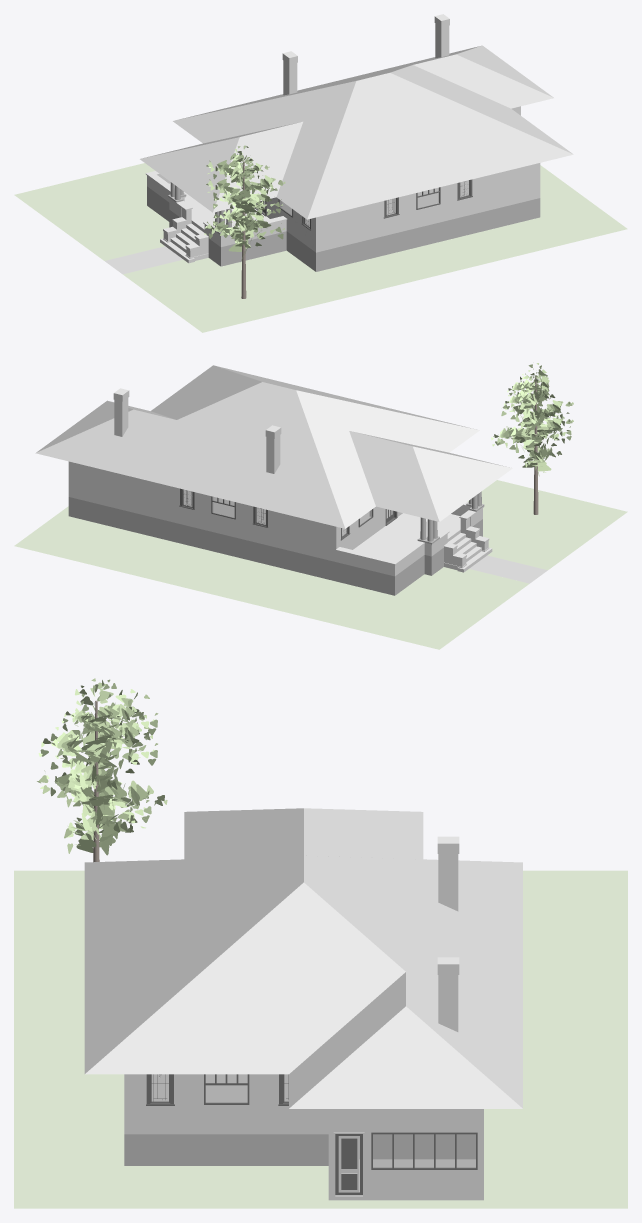
File: sp-prop-sf-1L-62ft.glb
3 views of the same model, one above another, from view 1: azimuth 30°, elevation 25°; view 2: azimuth 150°, elevation 25°; view 3: azimuth 270°, elevation 25° (orthographic). The views are drawn at different scales.
Parts seen in each view (by area): view 1: 3DGeom-55, 3DGeom-15, 3DGeom-16, 3DGeom-3, 3DGeom-8, 3DGeom-618, 3DGeom-1, 3DGeom-2; view 2: 3DGeom-55, 3DGeom-15, 3DGeom-3, 3DGeom-16, 3DGeom-8, 3DGeom-618, 3DGeom-1, 3DGeom-2; view 3: 3DGeom-55, 3DGeom-15, 3DGeom-16, 3DGeom-3, 3DGeom-618, 3DGeom-8, 3DGeom-2, 3DGeom-1.
Boxes of the visible parts, <box> form: 3DGeom-55: <box>14,163,627,332</box>; 3DGeom-15: <box>144,46,573,219</box>; 3DGeom-16: <box>105,45,572,274</box>; 3DGeom-3: <box>145,14,540,263</box>; 3DGeom-8: <box>147,182,540,271</box>; 3DGeom-618: <box>204,145,285,260</box>; 3DGeom-1: <box>254,179,472,230</box>; 3DGeom-2: <box>262,180,468,226</box>; 3DGeom-55: <box>14,480,627,649</box>; 3DGeom-15: <box>36,365,509,528</box>; 3DGeom-3: <box>68,388,492,576</box>; 3DGeom-16: <box>36,365,547,583</box>; 3DGeom-8: <box>68,491,484,595</box>; 3DGeom-618: <box>491,363,573,476</box>; 3DGeom-1: <box>179,488,397,540</box>; 3DGeom-2: <box>183,489,392,535</box>; 3DGeom-55: <box>14,870,627,1208</box>; 3DGeom-15: <box>84,808,522,1108</box>; 3DGeom-16: <box>85,855,522,1108</box>; 3DGeom-3: <box>124,836,483,1200</box>; 3DGeom-618: <box>37,678,167,855</box>; 3DGeom-8: <box>124,1134,328,1165</box>; 3DGeom-2: <box>151,1074,475,1167</box>; 3DGeom-1: <box>146,1074,477,1195</box>.
Bounding box in the file's own units: 25.09 × 8.34 × 18.78.
